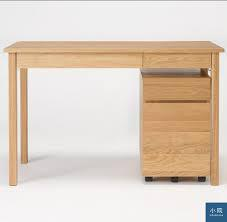desk: (4, 28, 220, 192)
